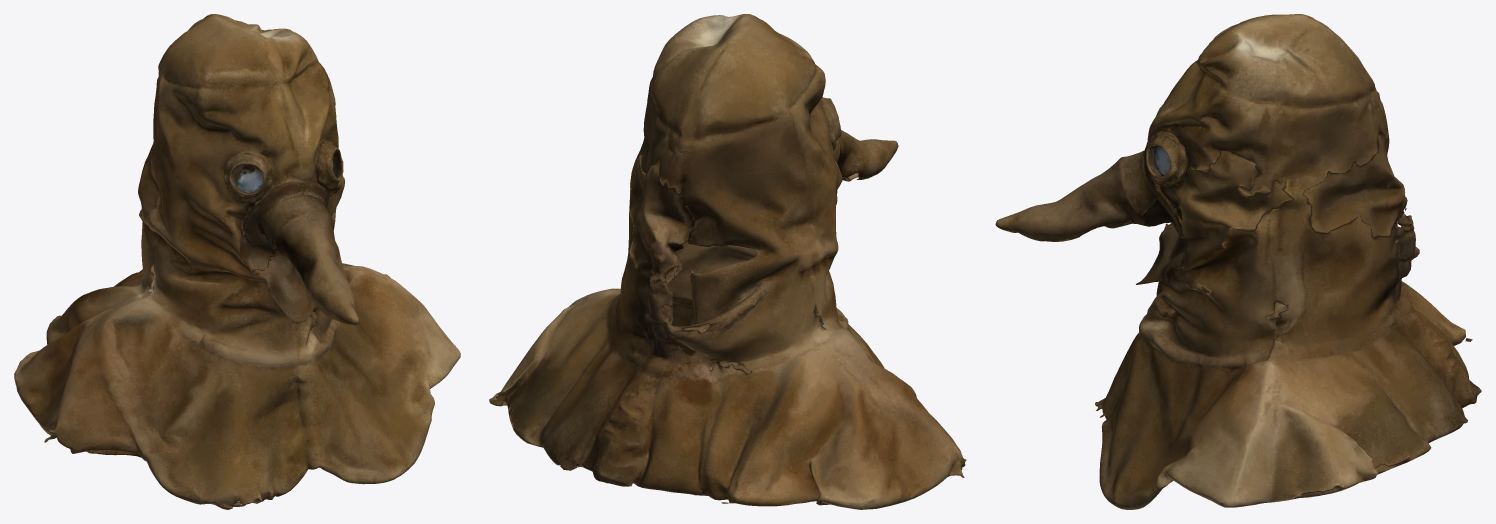
The model's file is pestmaske.glb.
The picture shows the model from 3 angles, left to right: view 1: azimuth 30°, elevation 25°; view 2: azimuth 150°, elevation 25°; view 3: azimuth 270°, elevation 25°; orthographic projection. The views are drawn at different scales.
Parts seen in each view (by area): view 1: geometry_0; view 2: geometry_0; view 3: geometry_0.
Boxes of the visible parts, left/top/right/bottom form: geometry_0: left=14, top=14, right=460, bottom=509; geometry_0: left=489, top=14, right=966, bottom=509; geometry_0: left=995, top=14, right=1481, bottom=509.
Bounding box in the file's own units: 1 × 0.9968 × 0.9987.
Materials: 1 (1 with a texture image).
